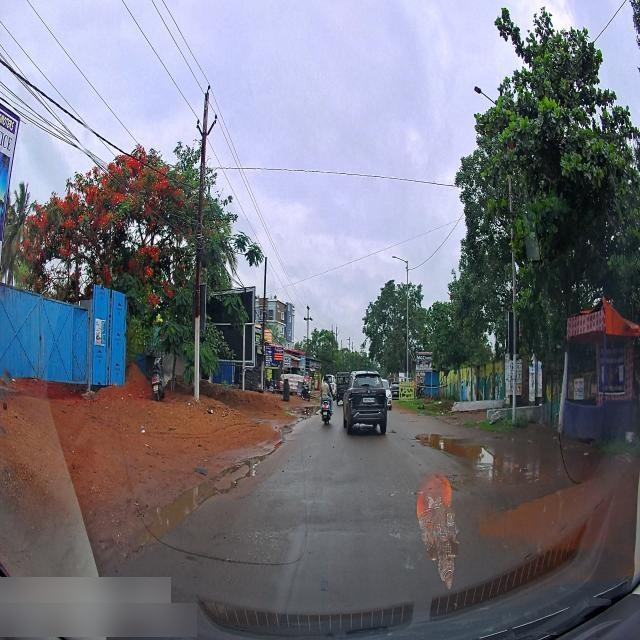pothole: (502, 478, 622, 548), (151, 484, 202, 535), (418, 430, 493, 462)
